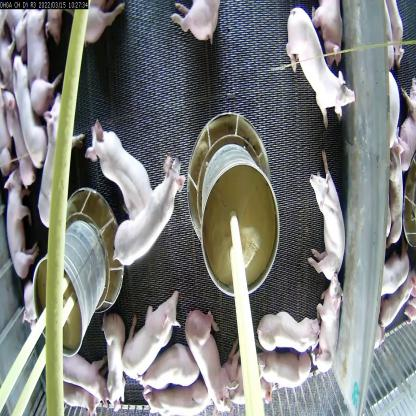Pig: (104, 150, 184, 266), (86, 117, 155, 217), (284, 5, 350, 106), (37, 95, 82, 232), (182, 308, 238, 415), (122, 289, 182, 382), (304, 150, 346, 282), (24, 0, 65, 119), (9, 56, 50, 171), (2, 168, 42, 284), (220, 340, 278, 415), (259, 302, 322, 360), (95, 308, 129, 410), (309, 0, 351, 79), (136, 343, 201, 393), (52, 348, 111, 402), (314, 277, 342, 377), (160, 3, 225, 46), (146, 376, 214, 416), (76, 1, 130, 50), (257, 350, 315, 392), (388, 132, 406, 248), (54, 372, 100, 416), (376, 250, 410, 301), (20, 281, 38, 331)
